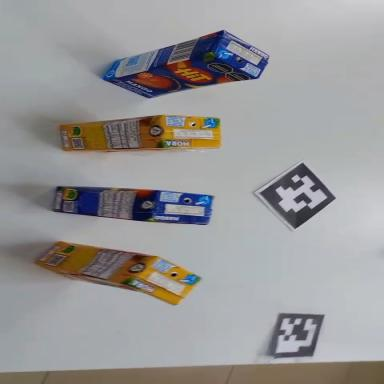HIT-MANGO: (99, 23, 272, 106), (52, 182, 213, 227)
HIT-MORA: (33, 231, 203, 309), (60, 114, 220, 151)
cara_F: (105, 47, 257, 106), (35, 263, 176, 305)
